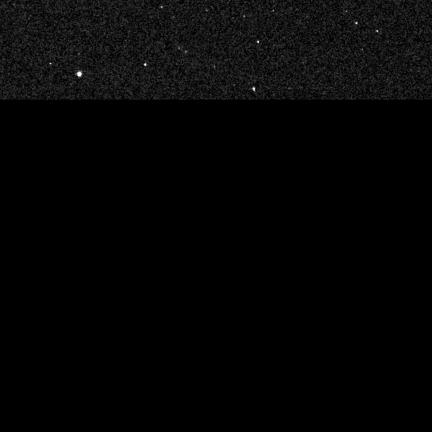blob: (77, 72, 82, 76), (144, 63, 148, 67), (355, 22, 358, 25), (376, 30, 379, 33), (257, 41, 260, 44), (253, 87, 255, 91), (50, 63, 52, 65)
